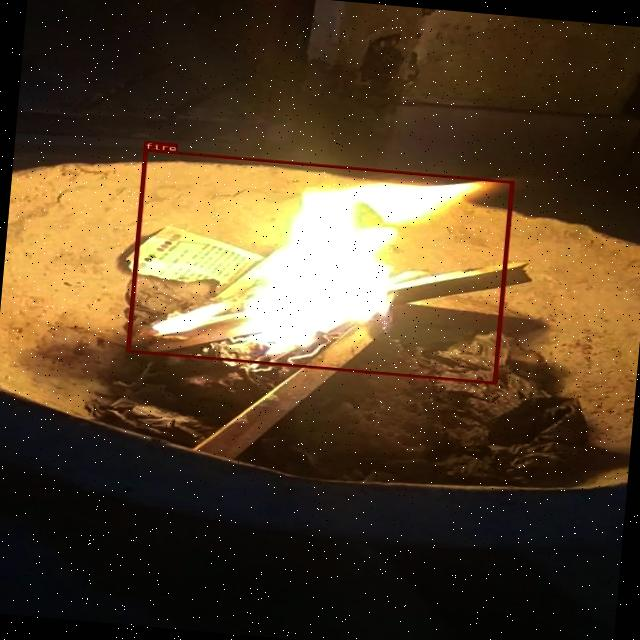fire: (125, 148, 513, 384)
